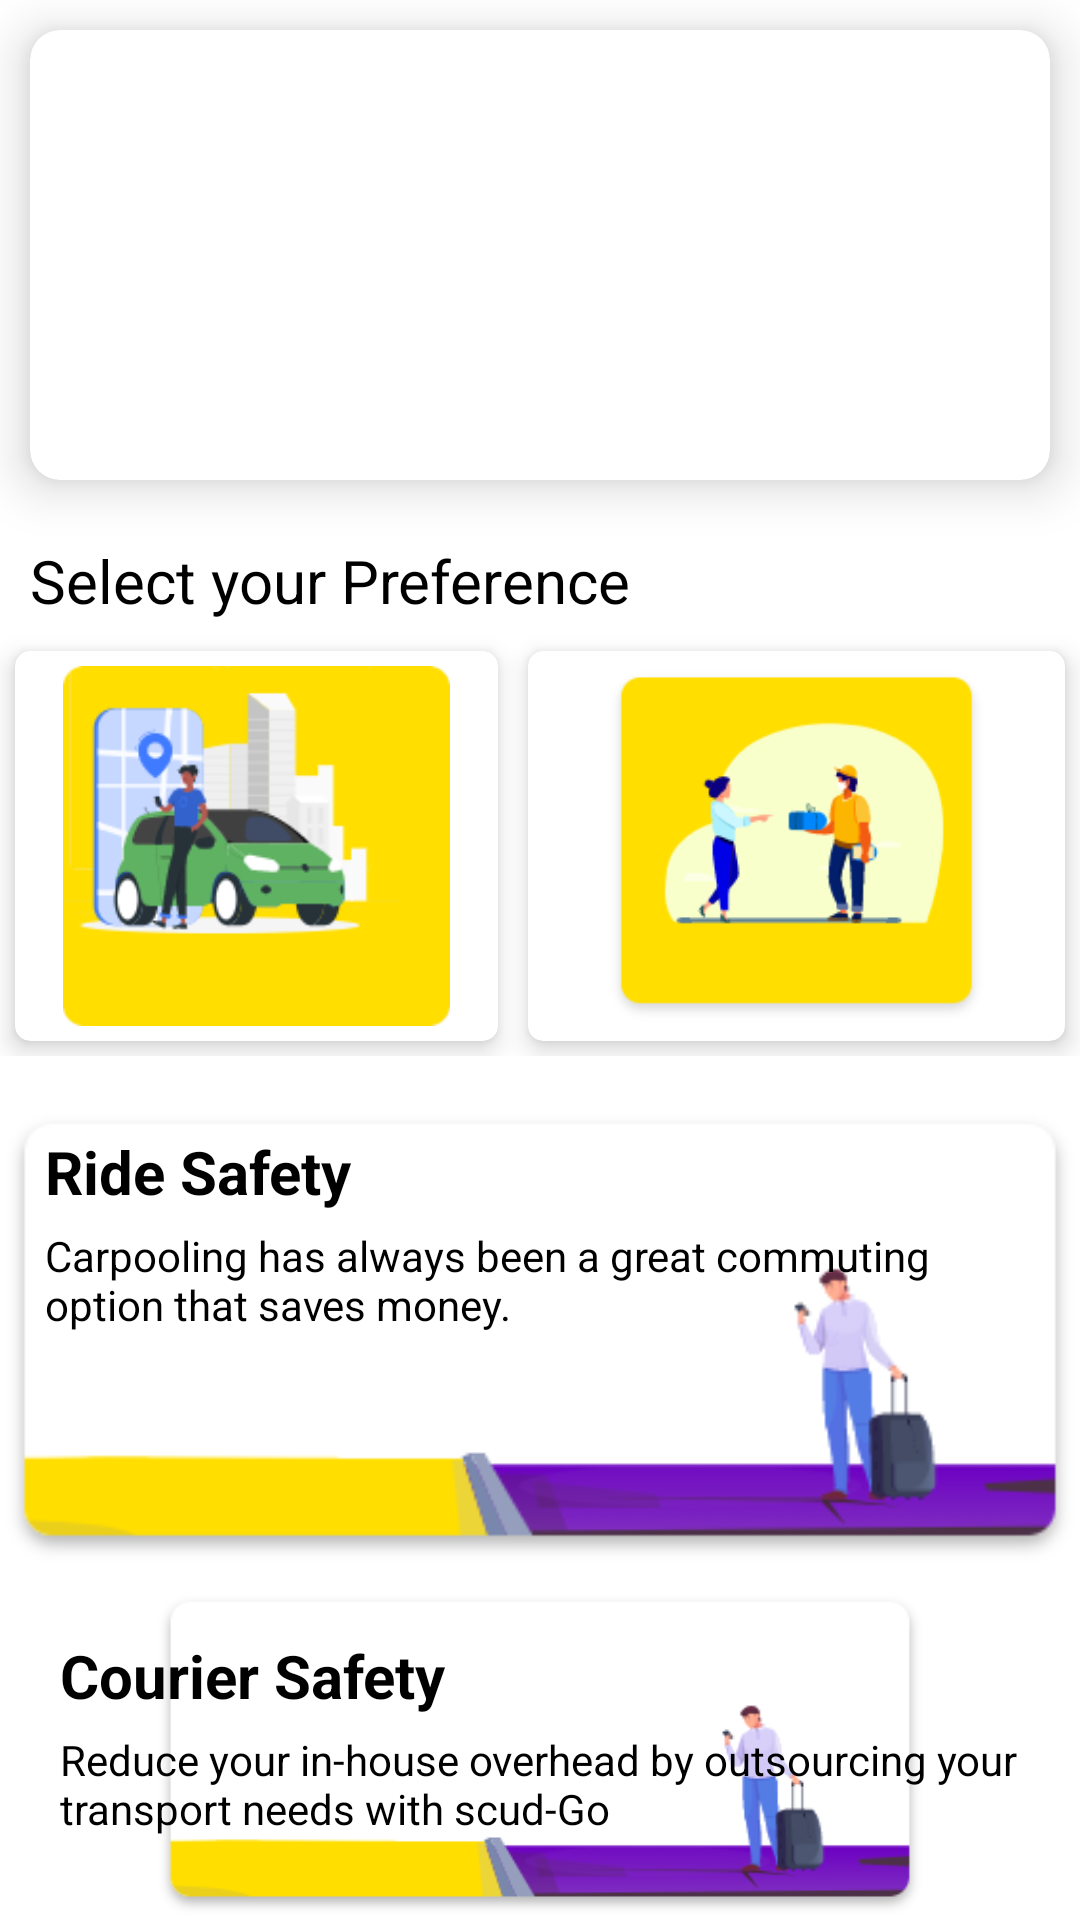

Named icons in this screenshot (1080w x 1920h) and their bounding boxes, (x1, y1, x2, y2):
courier: (620, 677, 973, 1007)
